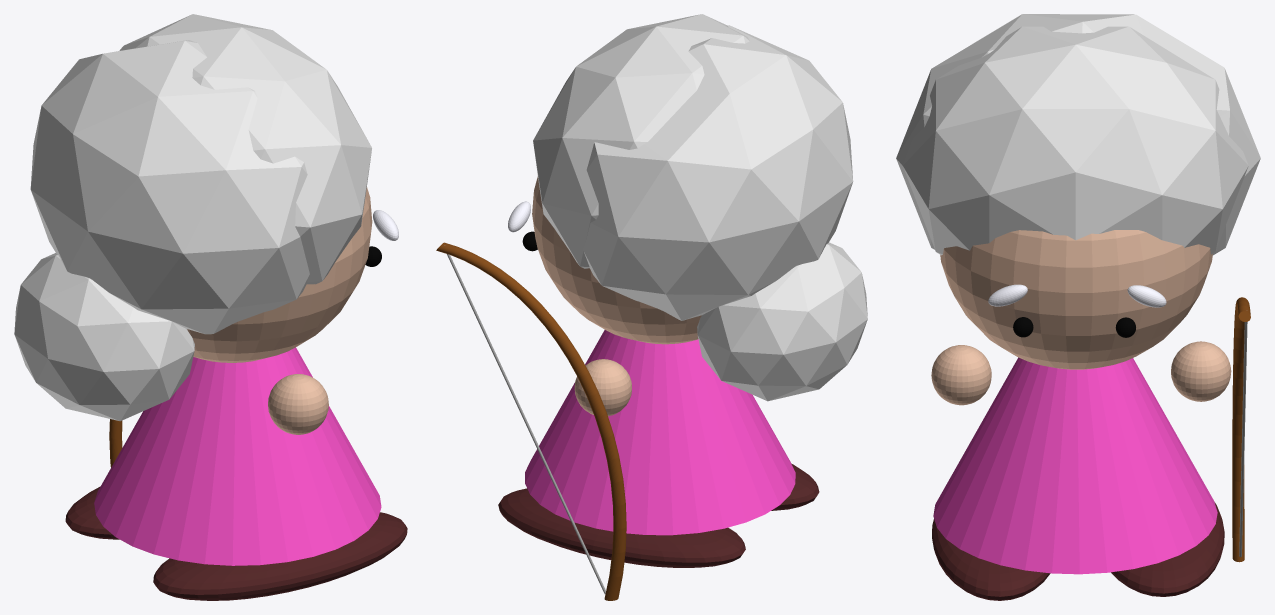
Rendered from obaasan2.fbx.
3 views of the same model, side by side, from view 1: azimuth 30°, elevation 25°; view 2: azimuth 150°, elevation 25°; view 3: azimuth 270°, elevation 25° (orthographic). The views are drawn at different scales.
Visible parts, largest first — view 1: Icosphere.002, Cone.004, Sphere.015, Sphere.013, Sphere.017, Sphere.014, Sphere.018, Cylinder.004; view 2: Icosphere.002, Cone.004, Sphere.014, Sphere.013, Cylinder.004, Sphere.016, Cylinder.005, Sphere.015; view 3: Icosphere.002, Cone.004, Sphere.013, Sphere.015, Sphere.014, Cylinder.004, Sphere.017, Sphere.016, Cylinder.005, Sphere.018, Sphere.019.
Boxes of the visible parts, x1,y1,x2,y2 form: Icosphere.002: (14,14,371,421); Cone.004: (94,347,381,565); Sphere.015: (153,512,407,600); Sphere.013: (187,187,372,362); Sphere.017: (268,374,328,434); Sphere.014: (65,486,119,539); Sphere.018: (373,210,398,240); Cylinder.004: (109,419,122,467); Icosphere.002: (533,14,867,401); Cone.004: (525,330,795,535); Sphere.014: (498,488,745,567); Sphere.013: (532,176,701,344); Cylinder.004: (436,242,626,600); Sphere.016: (574,359,631,416); Cylinder.005: (444,245,605,593); Sphere.015: (771,463,819,510); Icosphere.002: (896,14,1260,255); Cone.004: (933,357,1217,574); Sphere.013: (940,230,1212,369); Sphere.015: (932,519,1050,600); Sphere.014: (1111,502,1224,596); Cylinder.004: (1232,297,1250,562); Sphere.017: (931,345,991,405); Sphere.016: (1171,341,1231,401); Cylinder.005: (1239,322,1247,557); Sphere.018: (988,284,1027,306); Sphere.019: (1127,285,1166,307).
Size of the model in its own units: 169 by 244 by 152.
